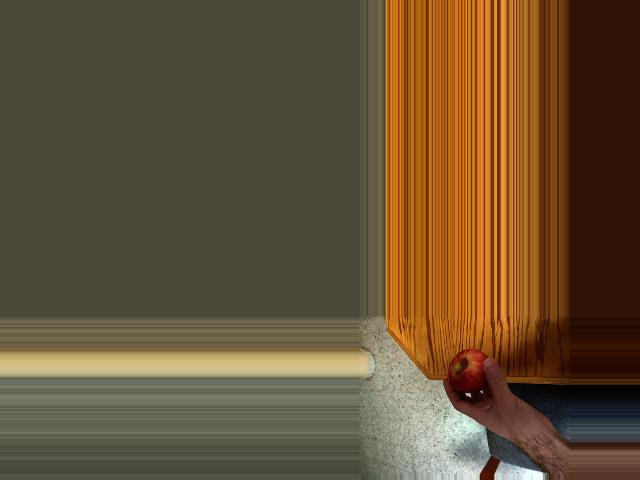apple: (446, 350, 493, 394)
